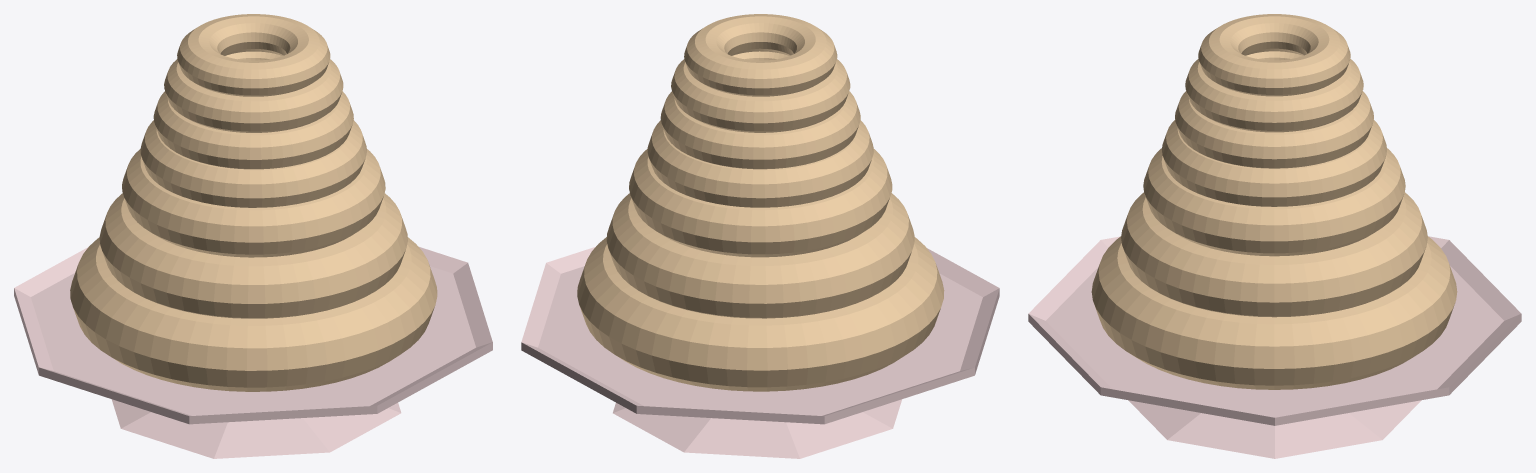
File: Kransekage.glb
The picture shows the model from 3 angles, left to right: view 1: azimuth 30°, elevation 25°; view 2: azimuth 150°, elevation 25°; view 3: azimuth 270°, elevation 25°; orthographic projection.
Visible parts, largest first — view 1: Kransekage; view 2: Kransekage; view 3: Kransekage.
Boxes of the visible parts, x1=… form: Kransekage: x1=14, y1=14, x2=492, y2=458; Kransekage: x1=521, y1=14, x2=999, y2=458; Kransekage: x1=1028, y1=14, x2=1521, y2=458.
Bounding box in the file's own units: 0.9887 × 0.7857 × 0.9887.
